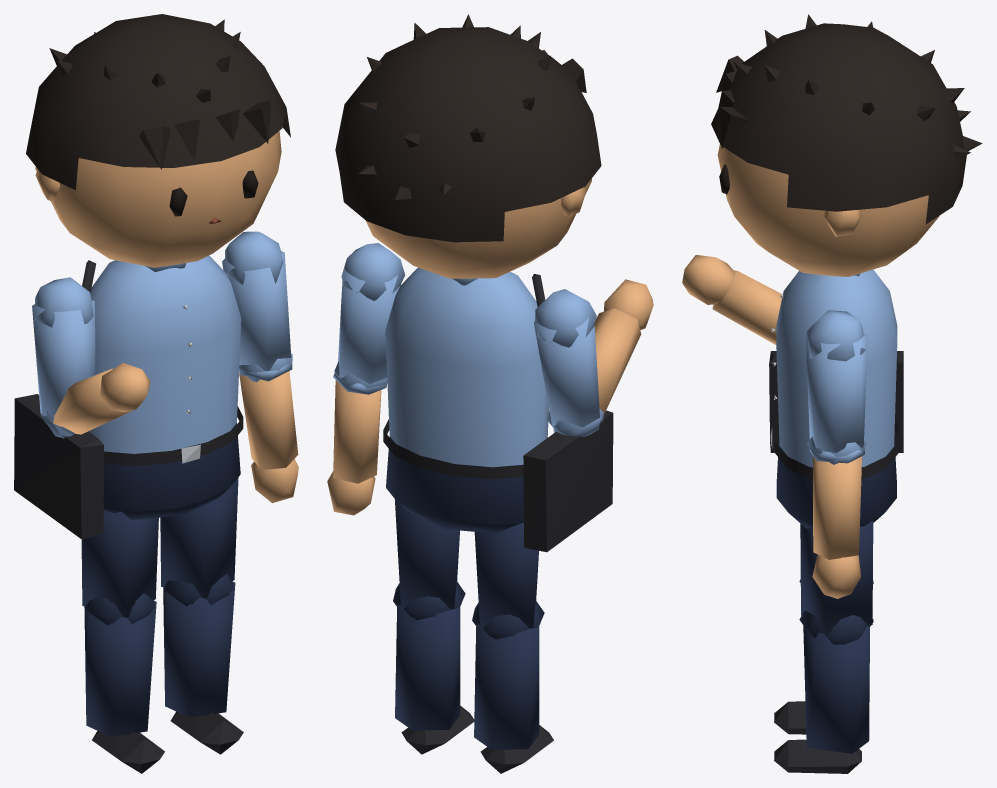
File: era4_office_man.glb
3 renders of one model, left to right at view 1: azimuth 30°, elevation 25°; view 2: azimuth 150°, elevation 25°; view 3: azimuth 270°, elevation 25°, orthographic.
Visible parts, largest first — view 1: head, body, shin_R, shin_L, arm_L, leg_L, arm_R, leg_R, forearm_L, forearm_R; view 2: head, body, shin_R, shin_L, arm_R, arm_L, leg_R, leg_L, forearm_L, forearm_R; view 3: head, body, shin_L, arm_L, forearm_L, leg_L, forearm_R, shin_R.
Boxes of the visible parts, x1,y1,x2,y2 form: head: (26,14,290,267); body: (14,255,243,539); shin_R: (84,593,164,773); shin_L: (163,574,243,754); arm_L: (222,231,291,382); leg_L: (160,477,238,606); arm_R: (32,277,95,433); leg_R: (81,510,158,625); forearm_L: (239,353,298,503); forearm_R: (46,363,150,438); head: (335,14,601,278); body: (383,267,613,552); shin_R: (472,601,553,773); shin_L: (393,581,474,754); arm_R: (534,289,601,436); arm_L: (334,243,405,388); leg_R: (472,522,544,639); leg_L: (393,499,465,620); forearm_L: (327,362,387,515); forearm_R: (553,279,653,436); head: (711,14,982,276); body: (769,269,903,528); shin_L: (774,616,873,773); arm_L: (805,310,867,464); forearm_L: (809,447,864,598); leg_L: (799,520,873,644); forearm_R: (682,255,781,344); shin_R: (774,581,873,734).
Bounding box in the file's own units: 0.5693 × 1.48 × 0.5635.
